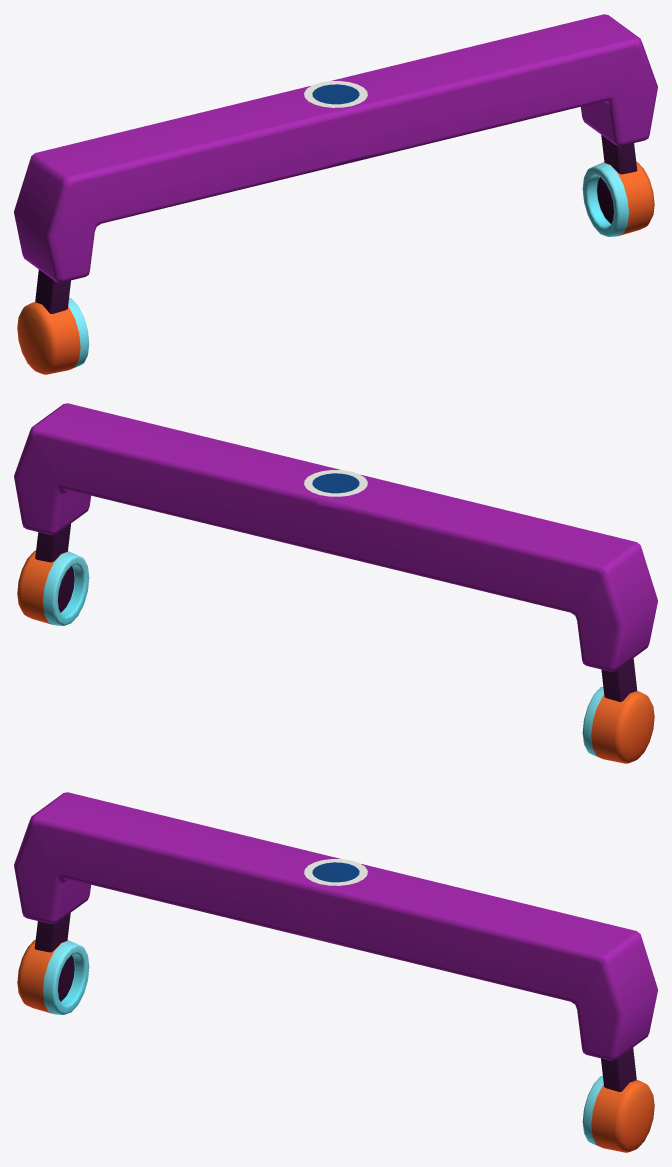
3 views of the same model, one above another, from view 1: azimuth 30°, elevation 25°; view 2: azimuth 150°, elevation 25°; view 3: azimuth 330°, elevation 25° (orthographic).
Visible parts, largest first — view 1: shape2_5, top_cycle; view 2: shape2_5, top_cycle; view 3: shape2_5, top_cycle.
Boxes of the visible parts, x1,y1,x2,y2 form: shape2_5: [14, 14, 657, 374]; top_cycle: [304, 81, 367, 107]; shape2_5: [14, 403, 657, 763]; top_cycle: [304, 470, 367, 496]; shape2_5: [14, 792, 657, 1152]; top_cycle: [304, 859, 367, 885].
Bounding box in the file's own units: 46.88 × 15.06 × 5.
